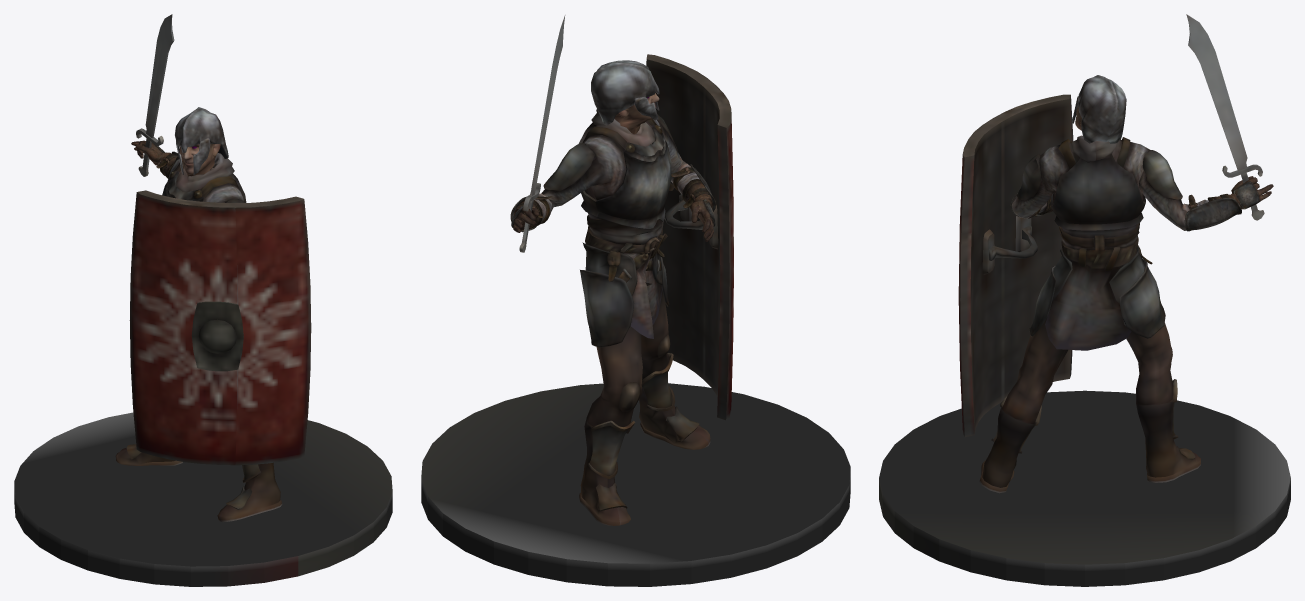
The picture shows the model from 3 angles, left to right: view 1: azimuth 30°, elevation 25°; view 2: azimuth 150°, elevation 25°; view 3: azimuth 270°, elevation 25°; orthographic projection. The views are drawn at different scales.
Parts seen in each view (by area): view 1: twin_dragon_greatshield.smd; view 2: twin_dragon_greatshield.smd; view 3: twin_dragon_greatshield.smd.
Boxes of the visible parts, x1,y1,x2,y2 form: twin_dragon_greatshield.smd: (14, 14, 392, 586); twin_dragon_greatshield.smd: (421, 15, 850, 586); twin_dragon_greatshield.smd: (879, 14, 1290, 586).
Bounding box in the file's own units: 1.51 × 2 × 1.51.
1 material, 1 textured.
